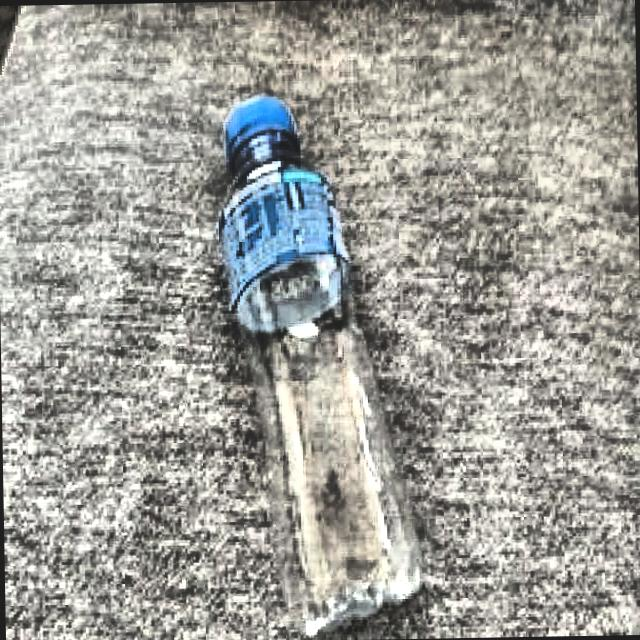plastic bottle: (207, 89, 430, 640)
